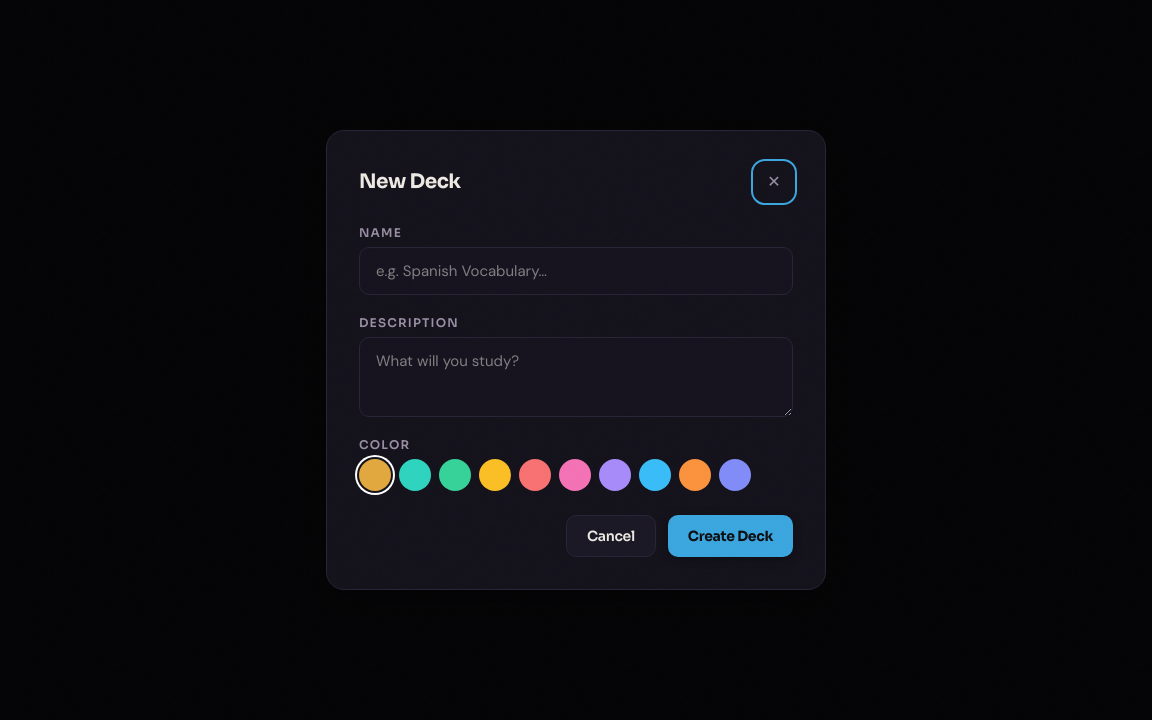
Scenario: DeckModal › disables submit button while saving
Type "Test" into the field with placeholder "e.g. Spanish Vocabulary…".
click(576, 271); type("Test")  # box x1=359 y1=247 x2=793 y2=295
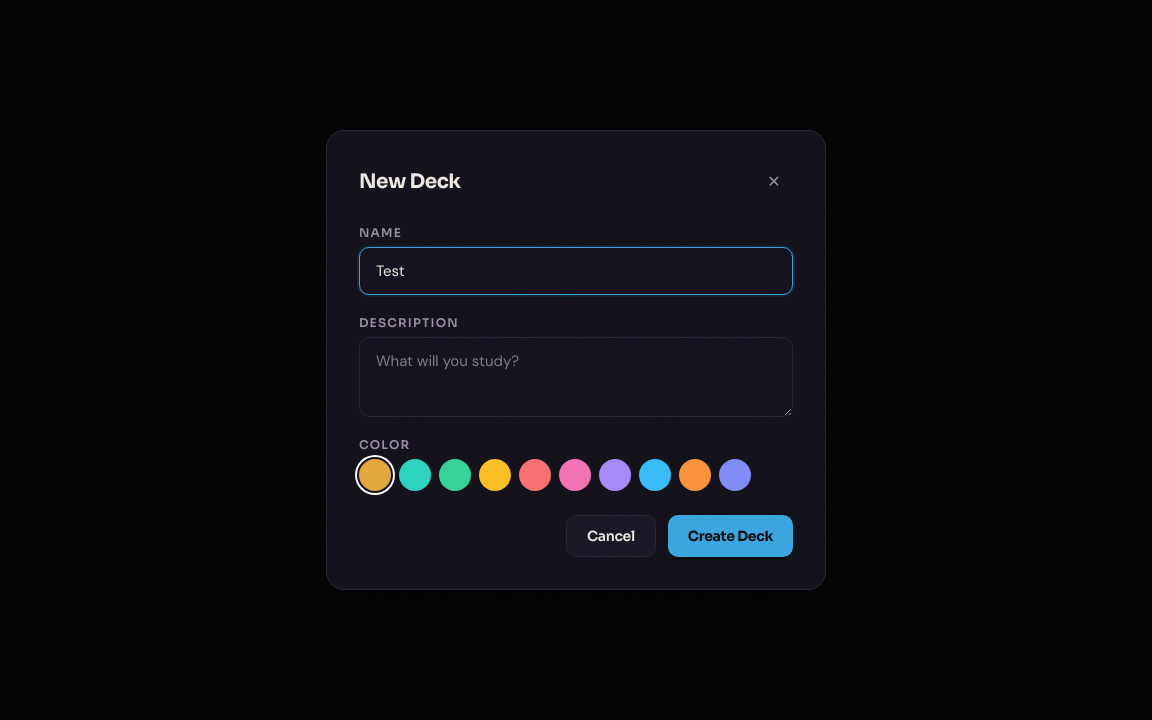
Click the button "Create Deck".
click(730, 536)  # box x1=668 y1=515 x2=793 y2=557
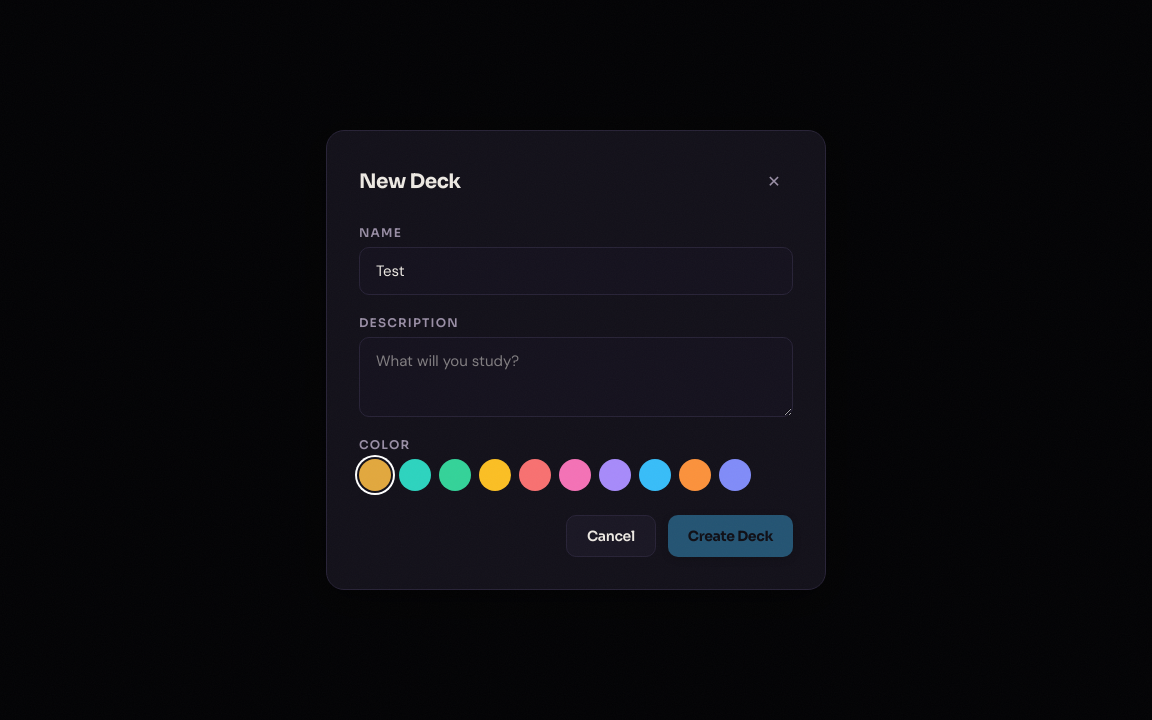
Check: the button "Create Deck" is disabled, box x1=668 y1=515 x2=793 y2=557
